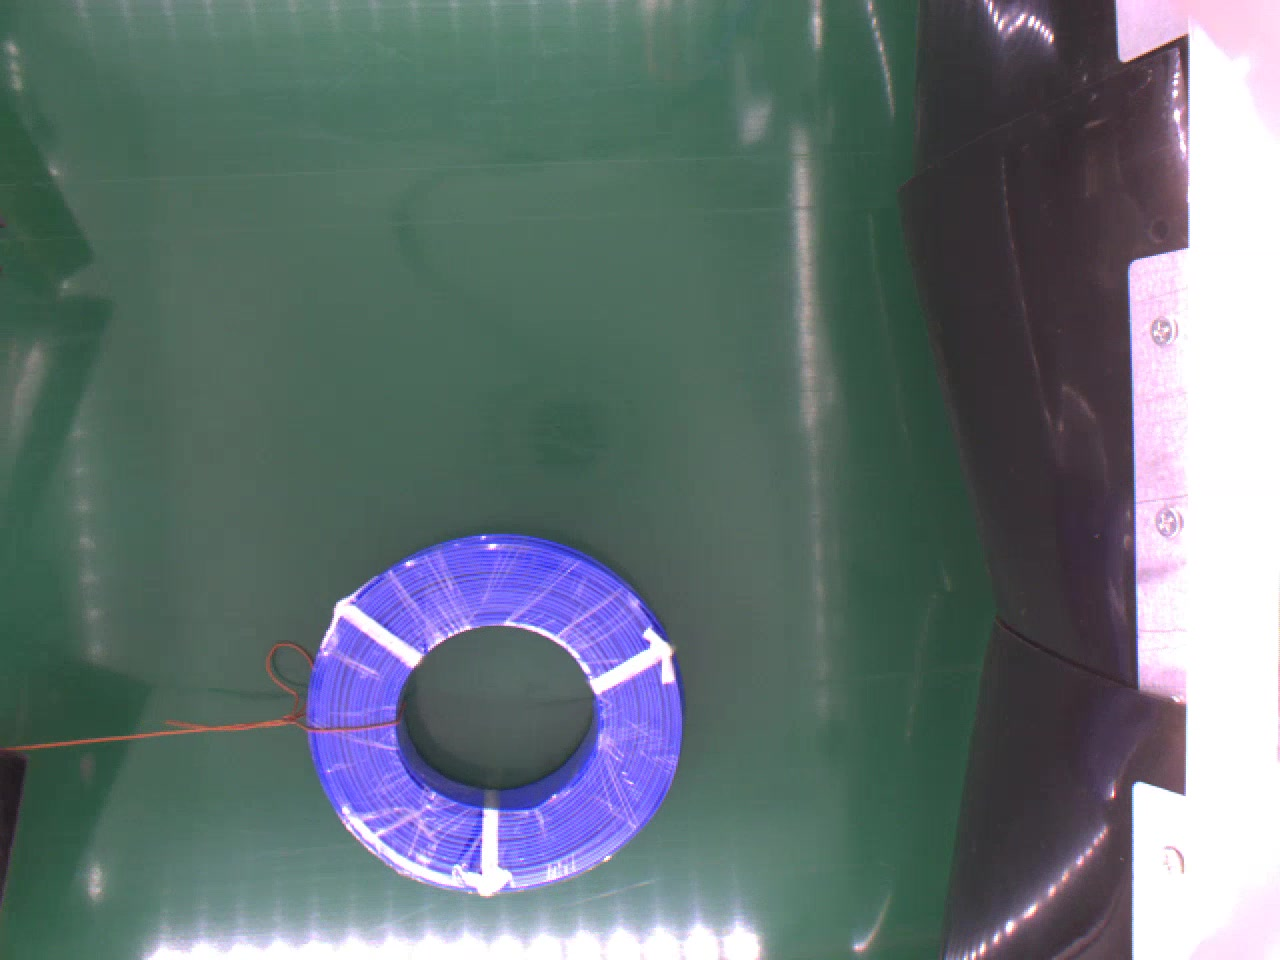blue: (302, 531, 686, 903)
